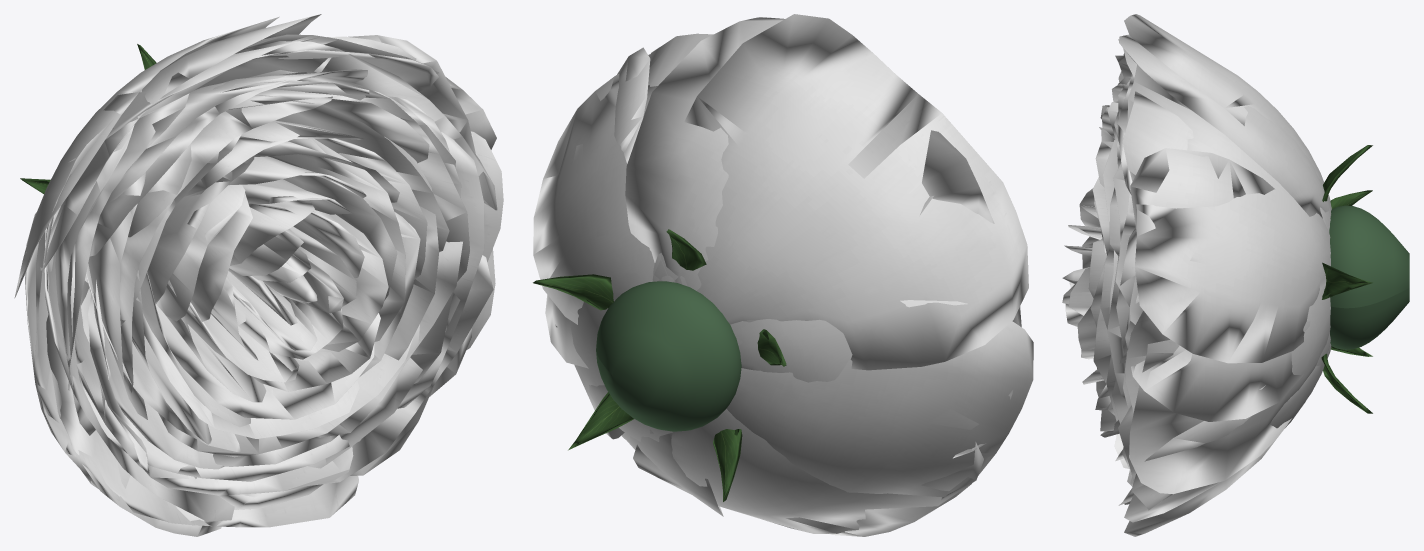
The model's file is rose-3.glb.
The picture shows the model from 3 angles, left to right: view 1: azimuth 30°, elevation 25°; view 2: azimuth 150°, elevation 25°; view 3: azimuth 270°, elevation 25°; orthographic projection. The views are drawn at different scales.
Parts seen in each view (by area): view 1: Rose_3_balanced_Petals; view 2: Rose_3_balanced_Petals, Rose_3_balanced_Receptacle, Rose_3_balanced_Sepals; view 3: Rose_3_balanced_Petals, Rose_3_balanced_Receptacle, Rose_3_balanced_Sepals.
Part boxes in pixels (bbox=[...]): Rose_3_balanced_Petals: bbox=[14, 14, 503, 536]; Rose_3_balanced_Petals: bbox=[533, 14, 1033, 536]; Rose_3_balanced_Receptacle: bbox=[596, 281, 741, 431]; Rose_3_balanced_Sepals: bbox=[533, 229, 786, 501]; Rose_3_balanced_Petals: bbox=[1062, 14, 1331, 536]; Rose_3_balanced_Receptacle: bbox=[1329, 205, 1409, 349]; Rose_3_balanced_Sepals: bbox=[1321, 145, 1372, 413].
Size of the model in its own units: 0.739 by 0.7593 by 0.5047.
Materials: 3 (2 with a texture image).
